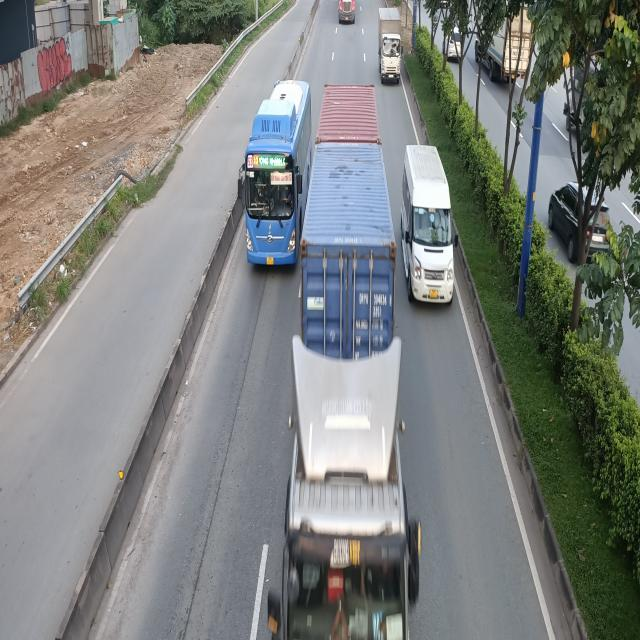coach: (240, 78, 316, 264)
container: (276, 83, 416, 634), (338, 0, 358, 24)
truck: (376, 7, 402, 86)
van: (402, 146, 458, 307)
